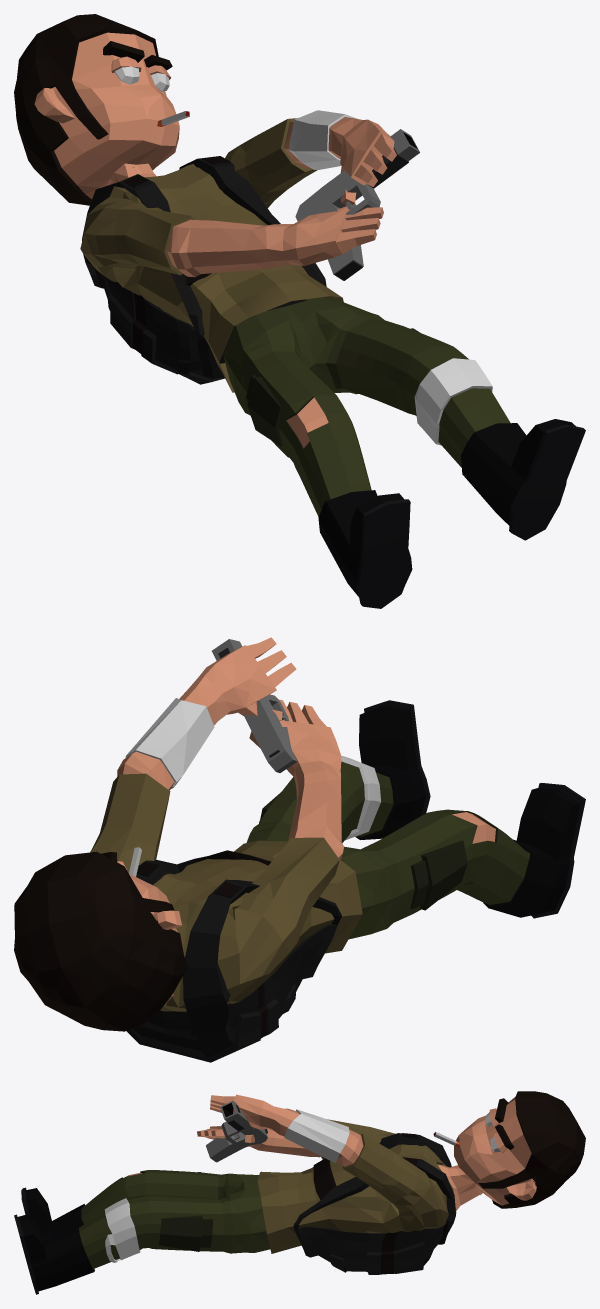
The model's file is frame_0057.obj.
3 renders of one model, top to bottom at view 1: azimuth 30°, elevation 25°; view 2: azimuth 150°, elevation 25°; view 3: azimuth 270°, elevation 25°, orthographic. The views are drawn at different scales.
Visible parts, largest first — view 1: Body, Gun; view 2: Body, Gun; view 3: Body, Gun.
Part boxes in pixels (x1,y1,x2,y2): Body: (14, 14, 585, 608); Gun: (295, 129, 419, 280); Body: (14, 637, 585, 1062); Gun: (212, 639, 296, 772); Body: (14, 1091, 585, 1294); Gun: (206, 1101, 267, 1162).
Bounding box in the file's own units: 1.22 × 1.81 × 4.16.
